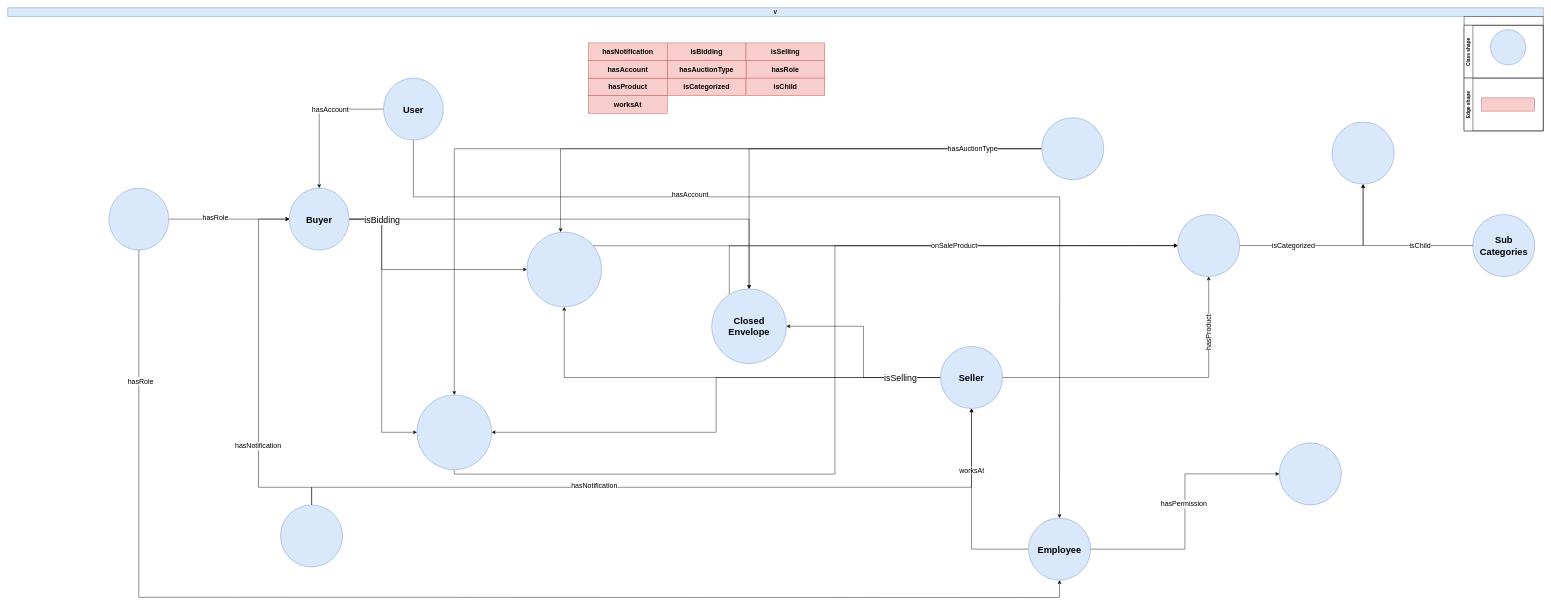
This 1551x609 diagram has some shape labels left out. The shapes that lost their labels are listed below. From the top down, each one's box as (x1, y1, x2, y2) in pixels, then its label:
(1464, 16, 1543, 131): Digram properties
(1041, 117, 1104, 180): Auctions
(1332, 122, 1394, 184): Categories
(108, 188, 169, 250): Role
(1177, 214, 1240, 277): Products
(526, 232, 602, 307): Live Auction
(416, 394, 492, 470): Timed Auction
(1279, 442, 1341, 505): Permission group
(280, 504, 343, 567): Notifications
